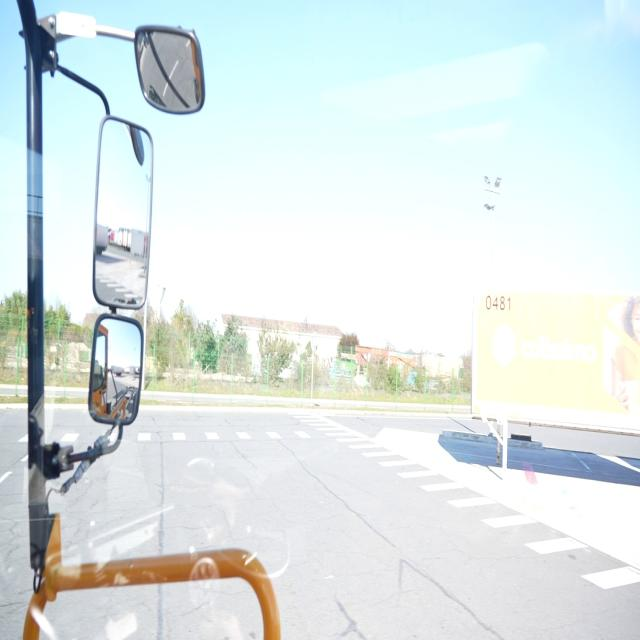Code: (481, 287, 517, 317)
